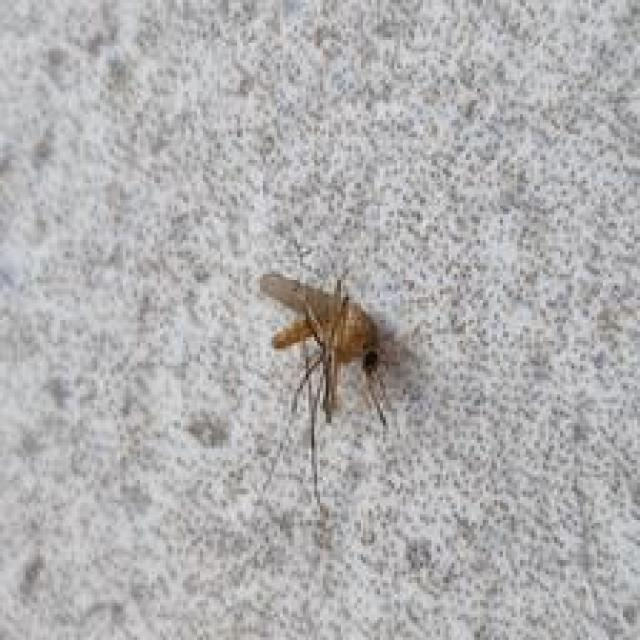Culex: (257, 268, 392, 506)
